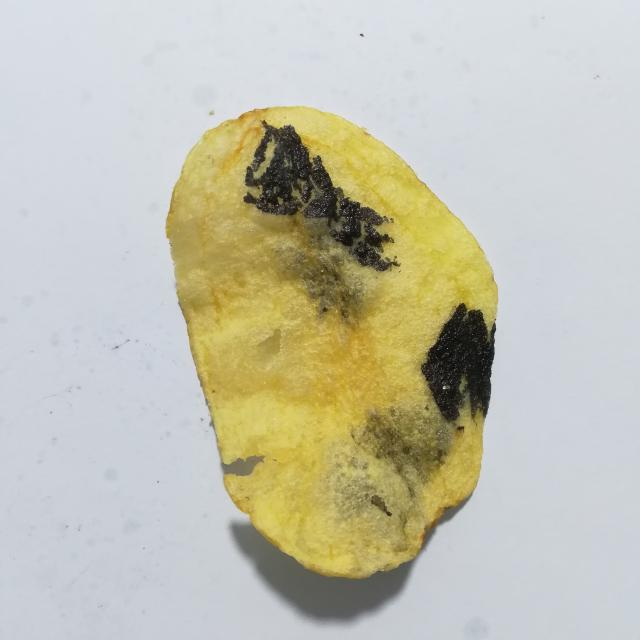chip: (166, 107, 498, 578)
damaged: (243, 120, 398, 270), (421, 303, 495, 421)
semi-damaged: (326, 400, 454, 551), (275, 210, 365, 324)
